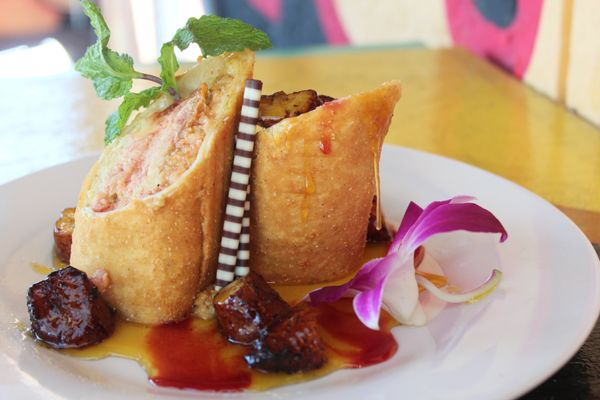soup: (66, 42, 258, 327), (247, 78, 404, 291)
